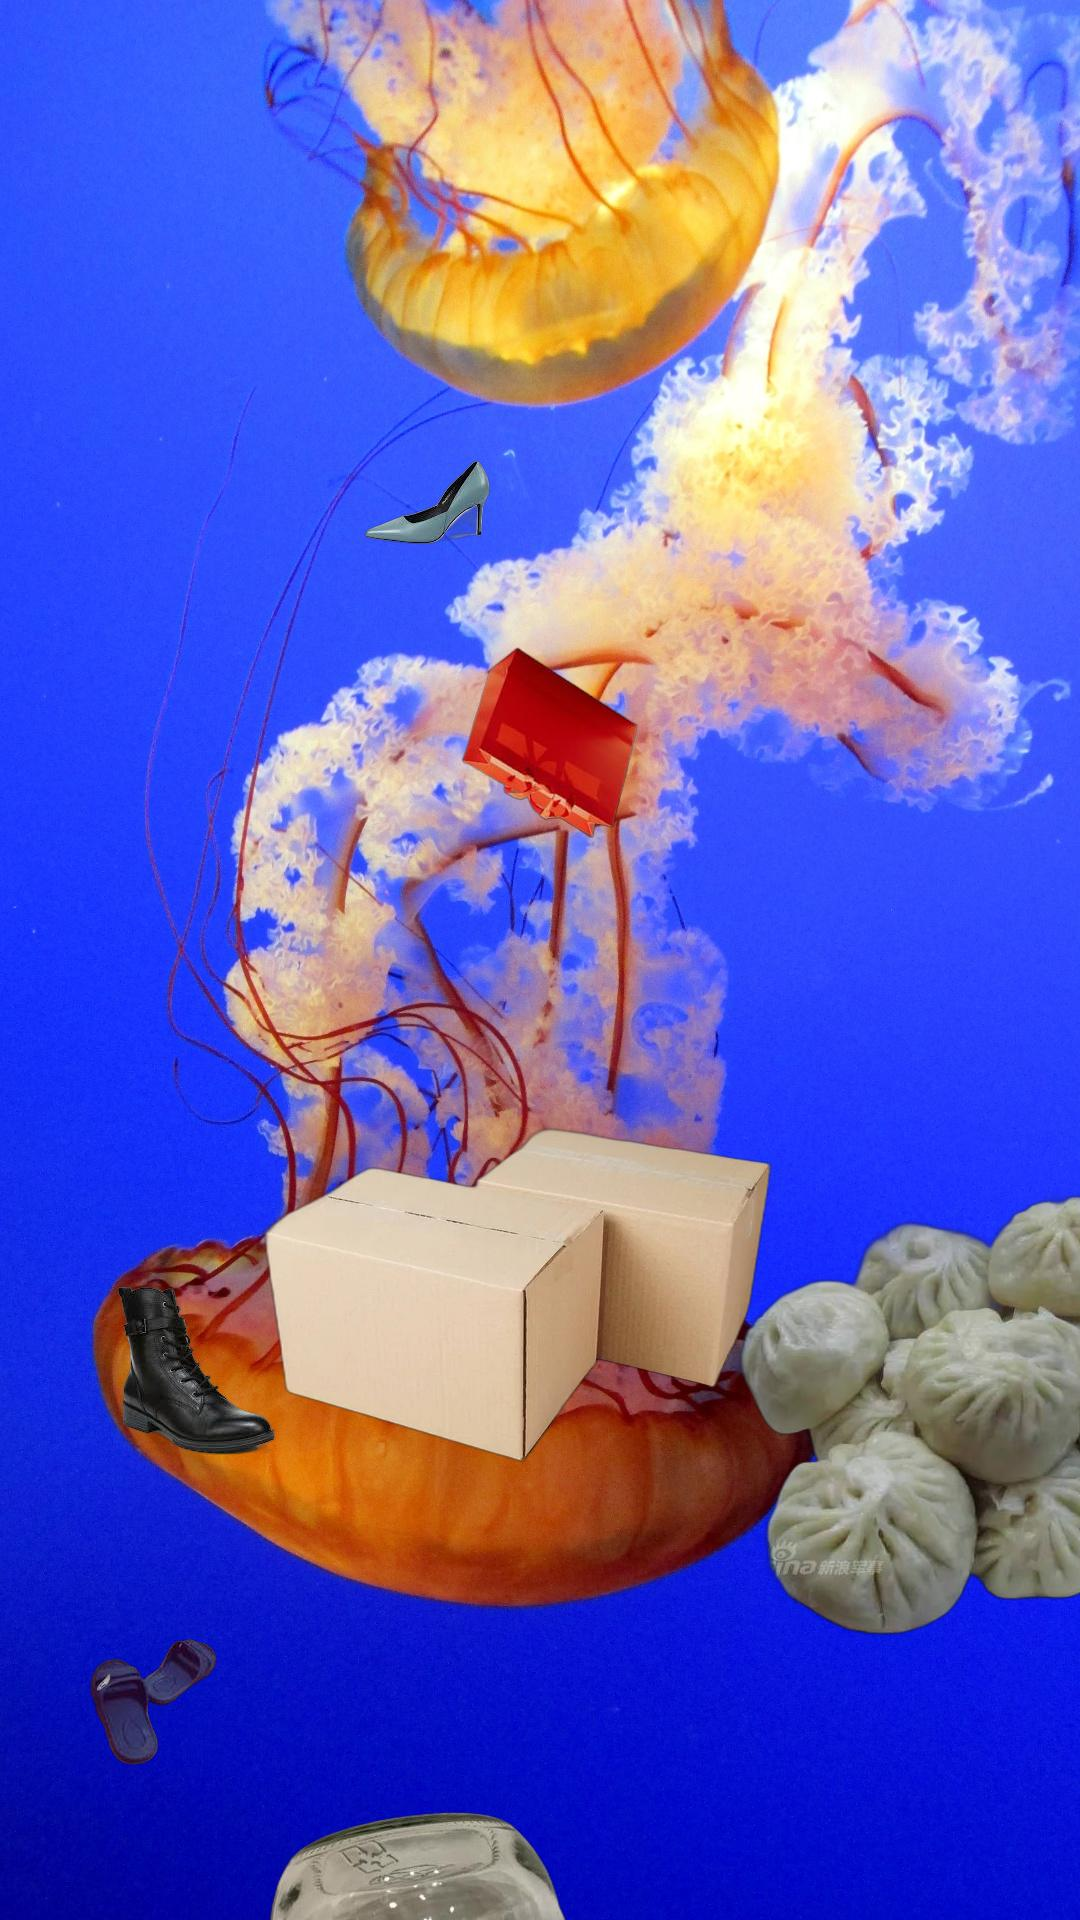biological: (735, 1189, 1080, 1638)
glass: (265, 1809, 603, 1920)
paper-bag: (459, 647, 640, 839)
shoes: (115, 1282, 277, 1458), (88, 1636, 219, 1767), (363, 458, 492, 547)
trashbox-cardboard: (260, 1124, 775, 1464)
